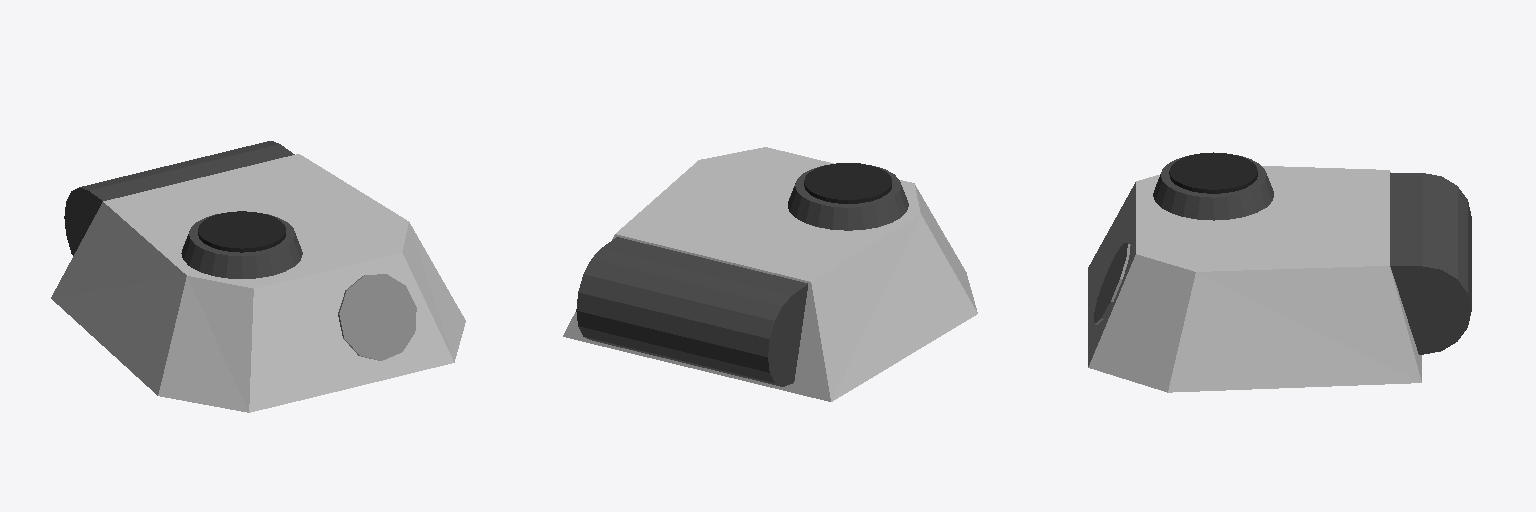
The model's file is tankpureturrent04.obj.
3 renders of one model, left to right at view 1: azimuth 30°, elevation 25°; view 2: azimuth 150°, elevation 25°; view 3: azimuth 270°, elevation 25°, orthographic.
Visible parts, largest first — view 1: Box021, Cylinder013, Cylinder016, Cone005, Cone006; view 2: Box021, Cylinder013, Cone005, Cone006; view 3: Box021, Cylinder013, Cone005, Cone006, Cylinder016.
Boxes of the visible parts, box(x1,y1,x2,y2) form: Box021: box(51, 154, 465, 412); Cylinder013: box(64, 141, 294, 255); Cylinder016: box(338, 274, 416, 360); Cone005: box(181, 214, 302, 278); Cone006: box(198, 211, 285, 252); Box021: box(563, 147, 977, 401); Cylinder013: box(576, 237, 807, 386); Cone005: box(788, 165, 908, 230); Cone006: box(804, 163, 891, 203); Box021: box(1088, 166, 1421, 392); Cylinder013: box(1390, 173, 1471, 354); Cone005: box(1153, 155, 1273, 220); Cone006: box(1169, 152, 1257, 193); Cylinder016: box(1093, 243, 1130, 324).
Size of the model in its own units: 40.19 by 15.42 by 43.34.